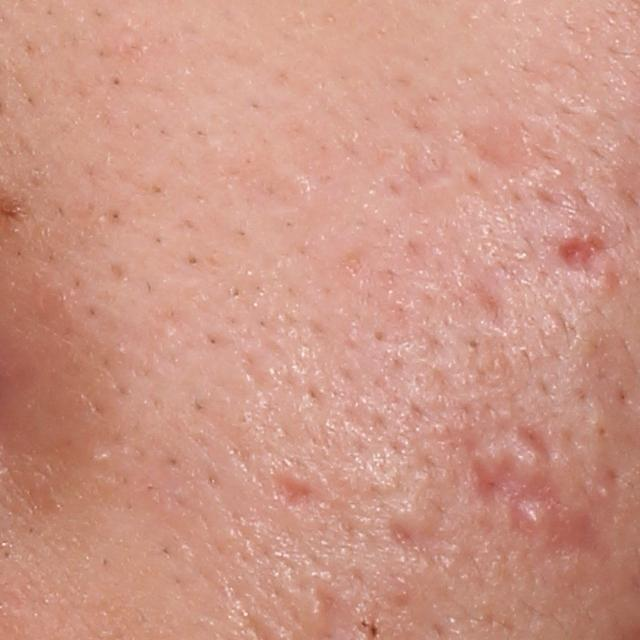atrophic_scar: (503, 474, 619, 569), (472, 451, 529, 518), (465, 128, 534, 176), (553, 228, 616, 272), (515, 423, 560, 471), (466, 283, 510, 331), (269, 476, 314, 509), (384, 522, 420, 553)
